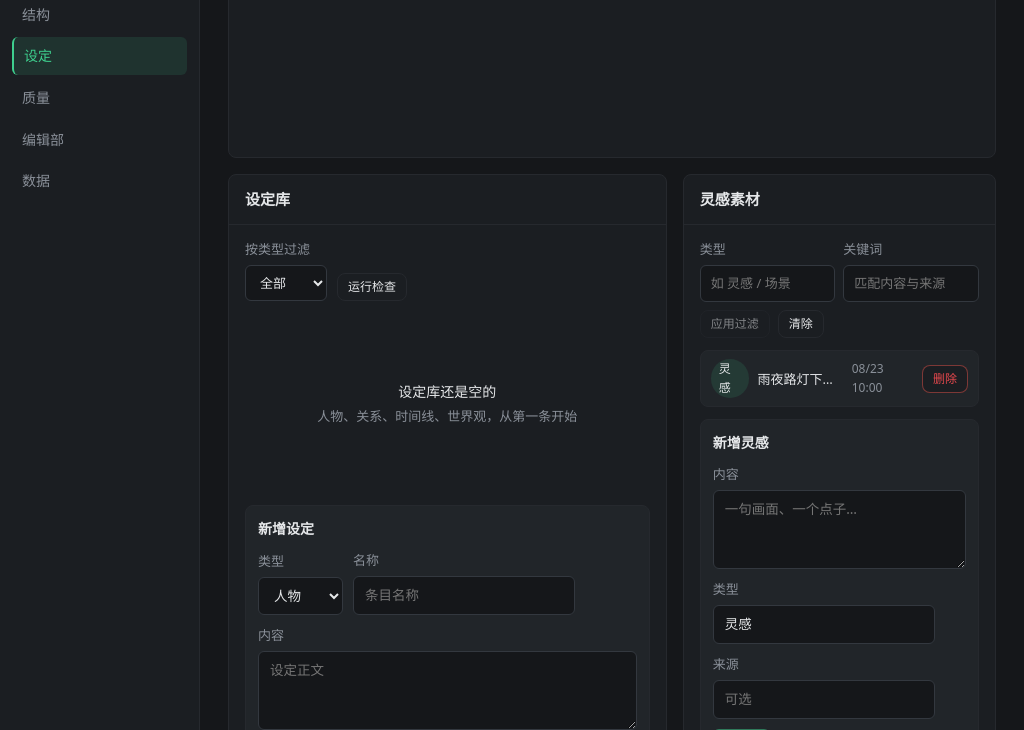
Test case: settings page › opens one inspiration detail
(page scrolled)
Click the button with test id "inspiration-item-i1" at (812, 379), box [711,359,914,398]
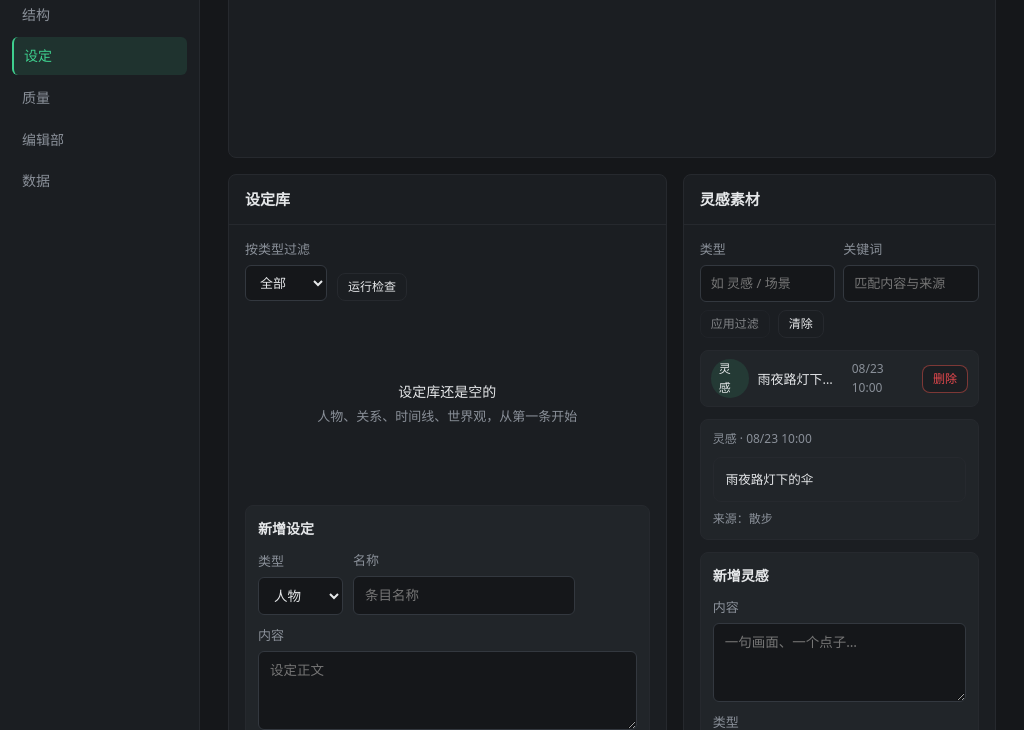
Now the 2nd text "雨夜路灯下的伞" is shown, box [713,457,966,502]
Now the element with test id "inspiration-detail" shows "来源：散步", box [700,419,979,540]
